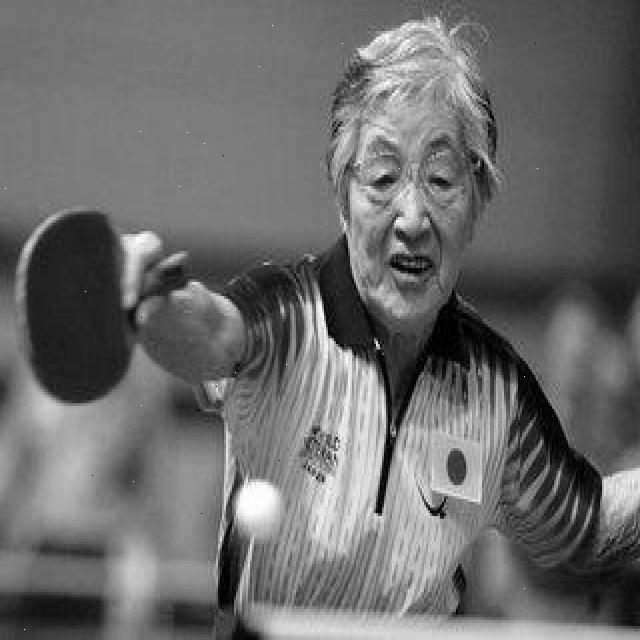ping-pong-ball: (234, 478, 283, 542)
